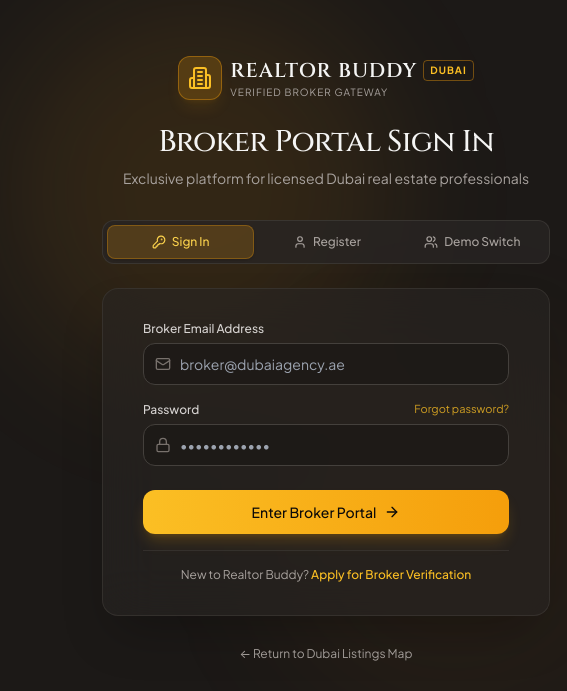
Scenario: AuthPage Component › switches between Sign In, Register, and Demo Switch tabs
// Click Register Tab
Click the button "Register".
click(327, 242)  # box [254,225,400,259]
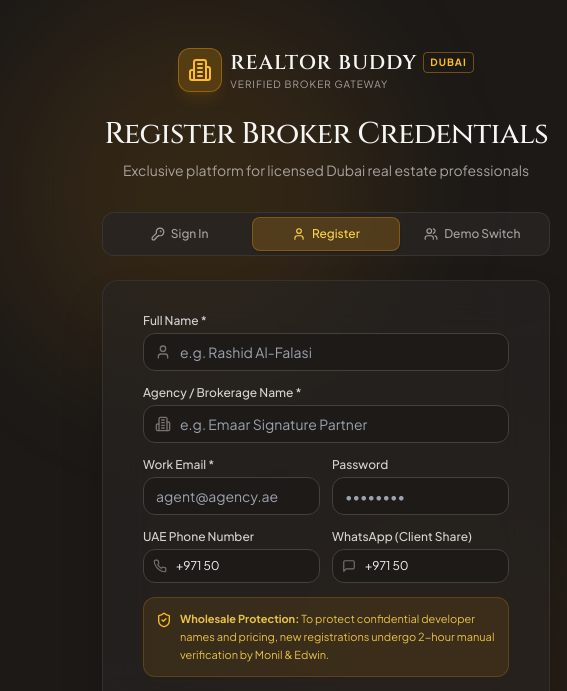
expect the heading "Register Broker Credentials" is shown: met, box [102,116,550,152]
expect the field with placeholder "e.g. Rashid Al-Falasi" is shown: met, box [143,333,509,371]
expect the text "Wholesale Protection:" is shown: met, box [180,612,299,625]
// Click Demo Switch Tab
Click the button "Demo Switch".
click(472, 234)  # box [400,217,545,251]
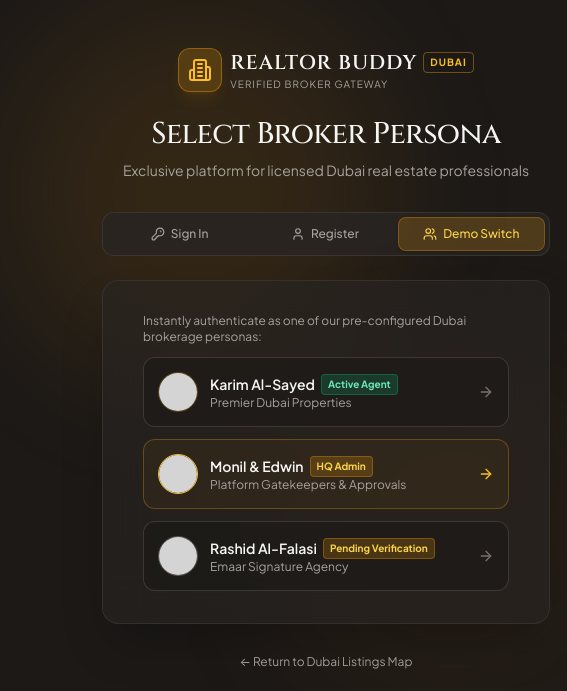
expect the text "Monil & Edwin" is shown: met, box [210,456,304,476]
expect the heading "Select Broker Persona" is shown: met, box [151,114,501,154]
expect the text "Karim Al-Sayed" is shown: met, box [210,374,315,394]
